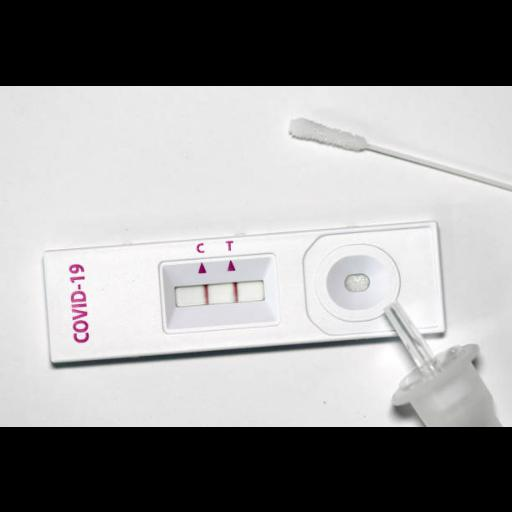Pos: (43, 220, 447, 362)
